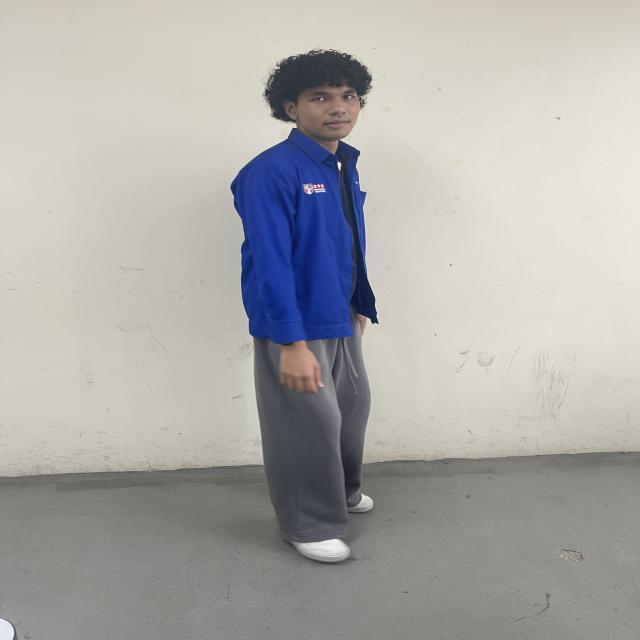person_with_labcoat: (231, 51, 378, 563)
